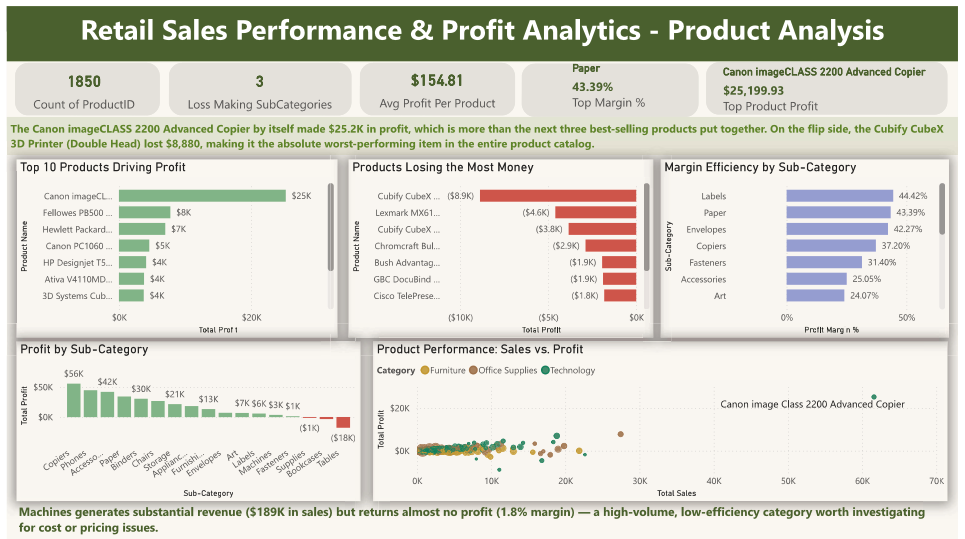

This screenshot's page, from the dashboard's own definition file:
{"tool":"powerbi","page":{"name":"Product","canvas":[1280,720],"ordinal":1},"visuals":[{"type":"shape","box":[692.9,77.1,238.6,71.4],"z":0},{"type":"shape","box":[475,75.7,208.6,71.4],"z":1000},{"type":"textbox","box":[0,0,1279.7,73.7],"z":2000},{"type":"shape","box":[11.4,75.7,194.3,71.4],"z":3000},{"type":"card","fields":{"Values":["CountNonNull(Dim-Product.ProductID)"]},"box":[21.4,77.1,165.7,68.6],"z":4000},{"type":"card","fields":{"Values":["Fact-Superstore.Avg Profit Per Product"]},"box":[493.6,74.3,171.4,71.4],"z":5000},{"type":"shape","box":[217.9,75.7,245.7,71.4],"z":6000},{"type":"card","fields":{"Values":["Fact-Superstore.Loss Making SubCategories"]},"box":[236.4,75.7,208.6,71.4],"z":7000},{"type":"multiRowCard","fields":{"Values":["Fact-Superstore.Top Margin SubCategory","Fact-Superstore.Top Margin %"]},"box":[756,70.1,114.7,81.6],"z":8000},{"type":"shape","box":[941.4,75,324.3,71.4],"z":9000},{"type":"multiRowCard","fields":{"Values":["Fact-Superstore.Top Product Name","Fact-Superstore.Top Product Profit"]},"box":[958.6,75,307.1,81.4],"z":10000},{"type":"clusteredBarChart","title":"Top 10 Products Driving Profit","fields":{"Category":["Dim-Product.Product Name"],"Y":["Fact-Superstore.Total Profit"]},"box":[12.5,205.5,432.9,240],"z":11000},{"type":"clusteredBarChart","title":"Products Losing the Most Money","fields":{"Category":["Dim-Product.Product Name"],"Y":["Fact-Superstore.Total Profit"]},"box":[459.7,205.5,410,240],"z":12000},{"type":"columnChart","title":"Profit by Sub-Category","fields":{"Category":["Dim-SubCategory.Sub-Category"],"Y":["Fact-Superstore.Total Profit"]},"box":[12.9,451.4,462.9,214.3],"z":13000},{"type":"clusteredBarChart","title":"Margin Efficiency by Sub-Category","fields":{"Category":["Dim-SubCategory.Sub-Category"],"Y":["Fact-Superstore.Profit Margin %"]},"box":[879.7,205.5,388.6,240],"z":14000},{"type":"scatterChart","title":"Product Performance: Sales vs. Profit","fields":{"X":["Fact-Superstore.Total Sales"],"Y":["Fact-Superstore.Total Profit"],"Series":["Dim-Category.Category"],"Size":["Fact-Superstore.Total Qty Sold"],"Category":["Dim-Product.Product Name"]},"box":[492.9,451.4,772.9,214.3],"z":15000},{"type":"textbox","box":[11.4,664.3,1255.7,55.7],"z":16000},{"type":"textbox","box":[0,149.2,1280,51],"z":17000},{"type":"textbox","box":[915.7,521.4,337.1,27.1],"z":18000}]}

Visuals, with their boxes in screenshot pixels (x1, y1, x2, y2), scaled from the page's 1280x720 canvas onto the 965x539 screenshot:
shape: locate(522, 58, 702, 111)
shape: locate(358, 57, 515, 110)
textbox: locate(0, 0, 964, 55)
shape: locate(9, 57, 155, 110)
card - CountNonNull(Dim-Product.ProductID): locate(16, 58, 141, 109)
card - Fact-Superstore.Avg Profit Per Product: locate(372, 56, 501, 109)
shape: locate(164, 57, 350, 110)
card - Fact-Superstore.Loss Making SubCategories: locate(178, 57, 335, 110)
multiRowCard - Fact-Superstore.Top Margin SubCategory x Fact-Superstore.Top Margin %: locate(570, 52, 656, 114)
shape: locate(710, 56, 954, 110)
multiRowCard - Fact-Superstore.Top Product Name x Fact-Superstore.Top Product Profit: locate(723, 56, 954, 117)
"Top 10 Products Driving Profit" clusteredBarChart: locate(9, 154, 336, 334)
"Products Losing the Most Money" clusteredBarChart: locate(347, 154, 656, 334)
"Profit by Sub-Category" columnChart: locate(10, 338, 359, 498)
"Margin Efficiency by Sub-Category" clusteredBarChart: locate(663, 154, 956, 334)
"Product Performance: Sales vs. Profit" scatterChart: locate(372, 338, 954, 498)
textbox: locate(9, 497, 955, 538)
textbox: locate(0, 112, 964, 150)
textbox: locate(690, 390, 944, 411)
